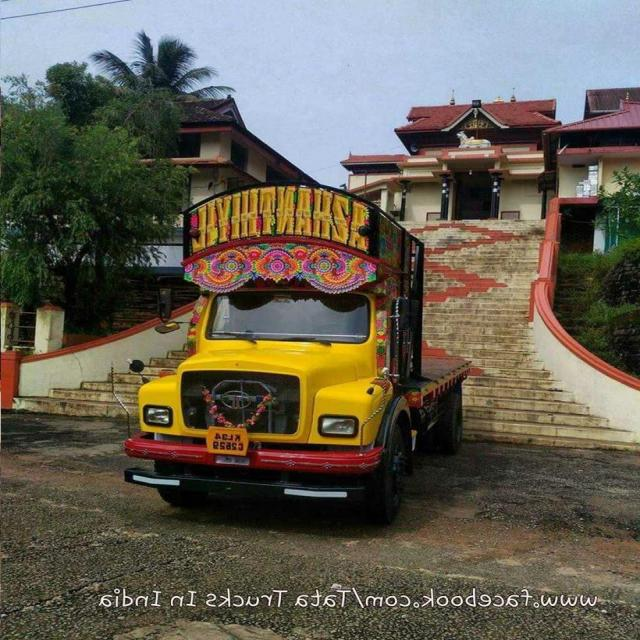truck: (113, 166, 484, 540)
